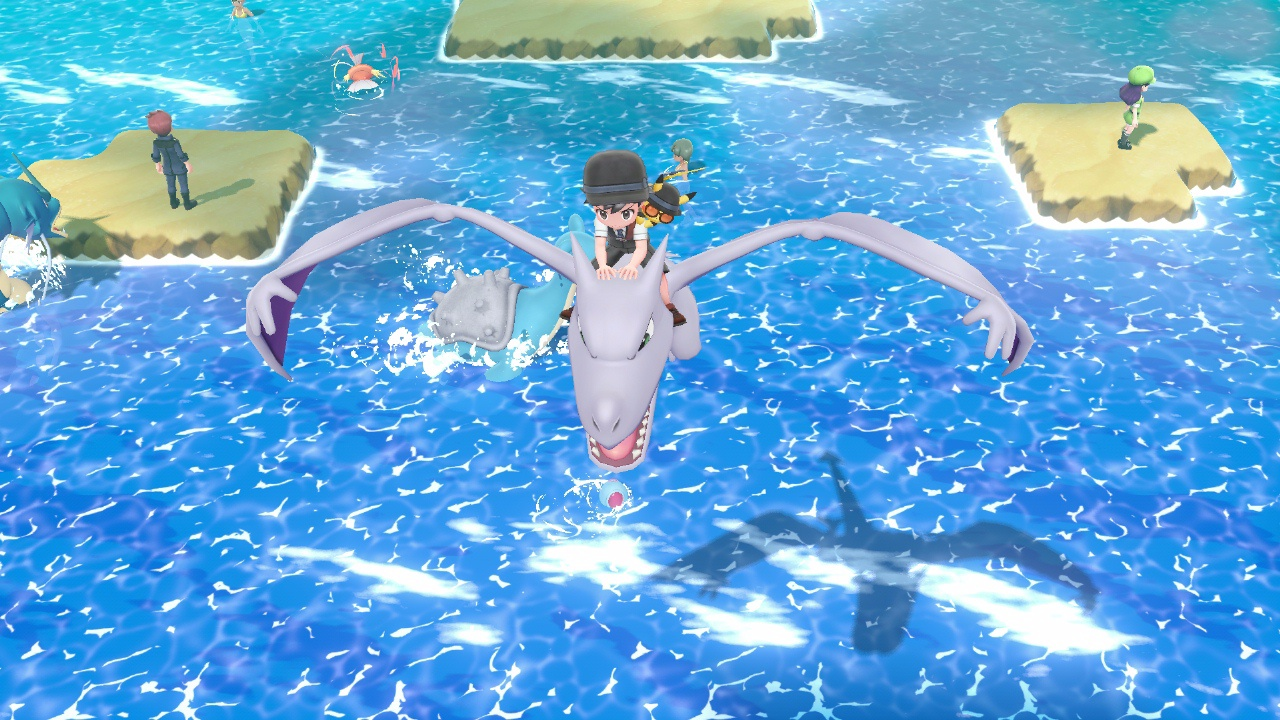Red: (341, 54, 386, 93)
